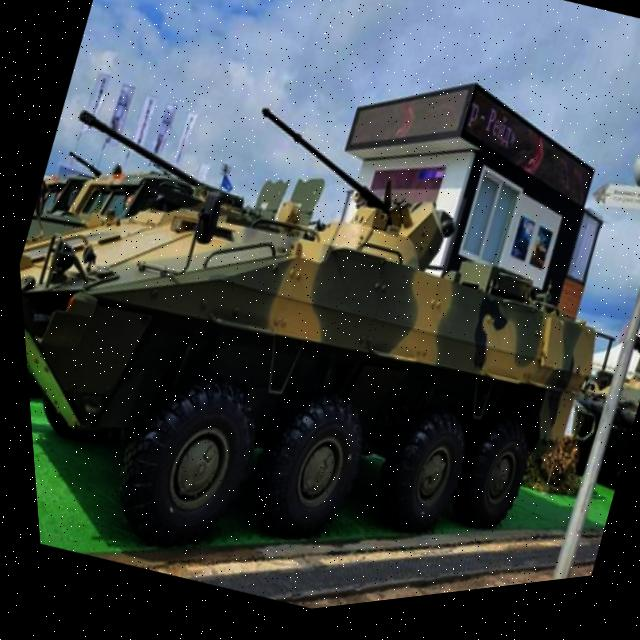MIL_APC: (7, 54, 640, 640)
